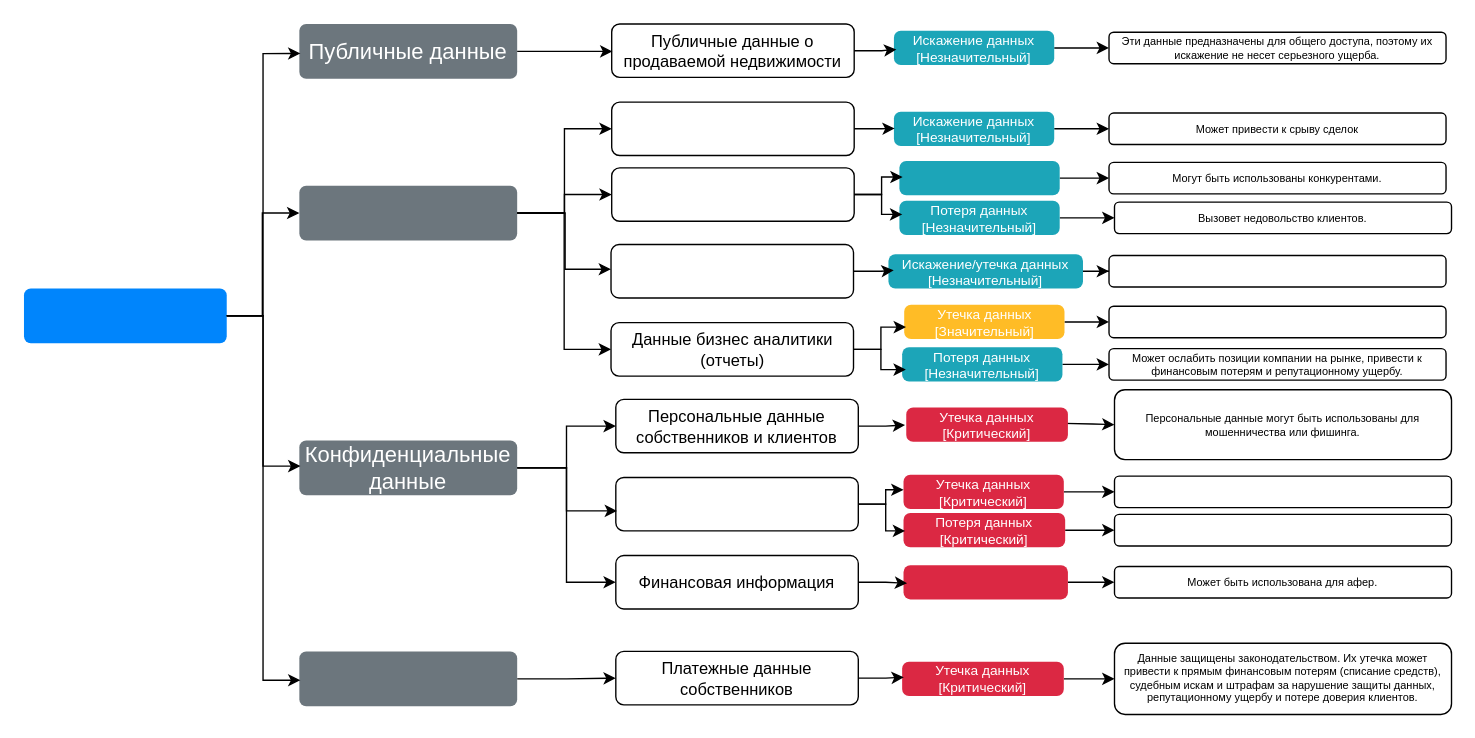
Some shapes in this 1475 by 738 pixel diagram are drawn without their labels. The shapes that lost their labels are listed below. From the top down, each one's centre as x and y in pixels, then its label:
At (x=732, y=128): "Данные о недвижимости".
At (x=732, y=193): "Данные онлайн-осмотров недвижимости".
At (x=979, y=177): "Утечка данных [Незначительный]".
At (x=407, y=212): "Внутренние данные".
At (x=732, y=270): "Данные ЖКХ".
At (x=1277, y=270): "Может быть использовано в мошеннических схемах.".
At (x=124, y=315): "Безопасность данных".
At (x=1277, y=321): "Могут быть раскрыты стратегические планы компании.".
At (x=736, y=503): "Информация об онлайн-сделках".
At (x=1282, y=491): "Может раскрыть коммерческую тайну или использоваться для манипуляций на рынке.".
At (x=1282, y=529): "Репутационные риски компании.".
At (x=985, y=581): "Искажение данных [Критический]".
At (x=407, y=678): "Секретные данные".
